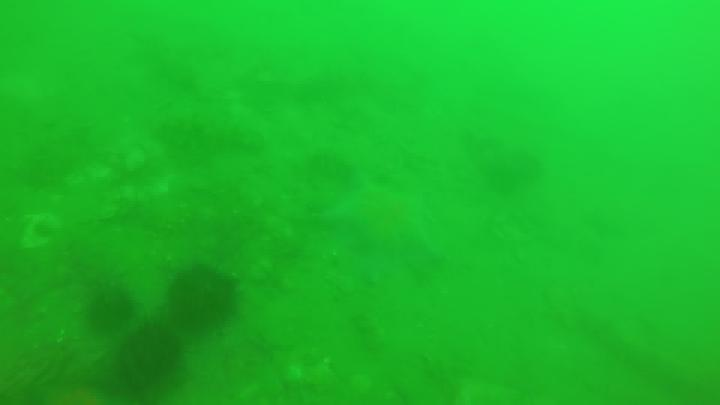echinus: (165, 266, 238, 338), (121, 324, 188, 388), (85, 292, 133, 330)
scallop: (19, 209, 68, 254)
starfish: (322, 184, 441, 281)
